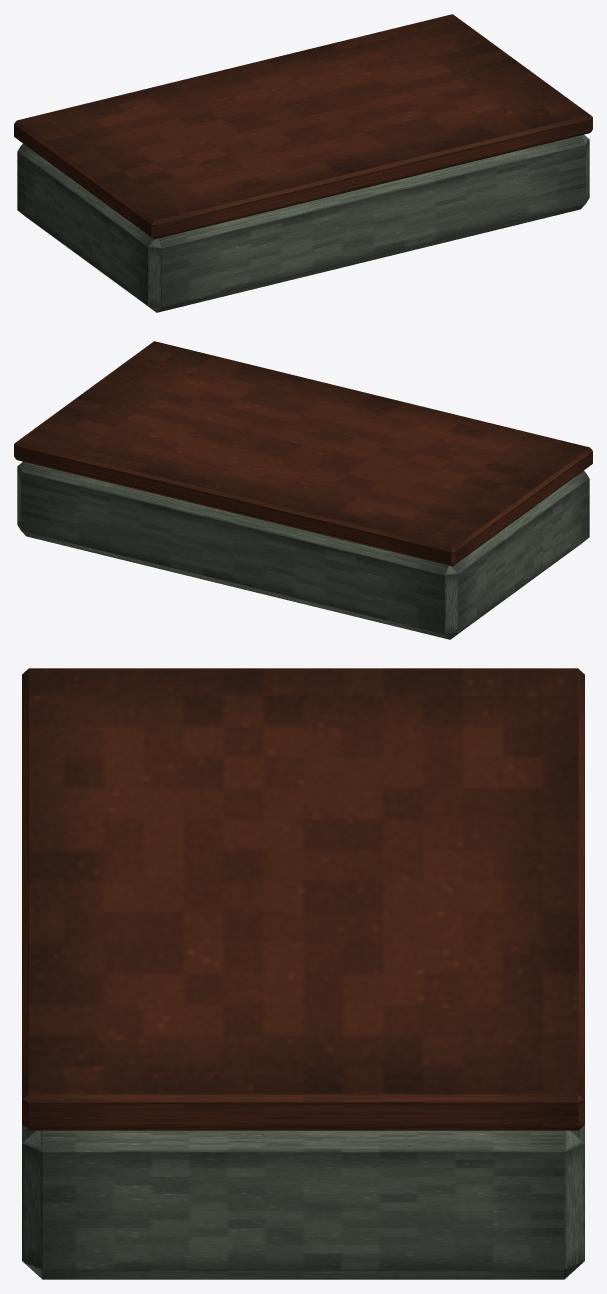
Rendered from THStage_FindSupport_14.fbx.
3 renders of one model, top to bottom at view 1: azimuth 30°, elevation 25°; view 2: azimuth 150°, elevation 25°; view 3: azimuth 270°, elevation 25°, orthographic. The views are drawn at different scales.
Visible parts, largest first — view 1: THStage_FindSupport_14.013; view 2: THStage_FindSupport_14.013; view 3: THStage_FindSupport_14.013.
Part boxes in pixels (bbox=[...]): THStage_FindSupport_14.013: bbox=[14, 14, 592, 312]; THStage_FindSupport_14.013: bbox=[14, 341, 592, 639]; THStage_FindSupport_14.013: bbox=[22, 668, 584, 1279].
Bounding box in the file's own units: 0.598 × 0.124 × 0.33.
Materials: 1 (1 with a texture image).
